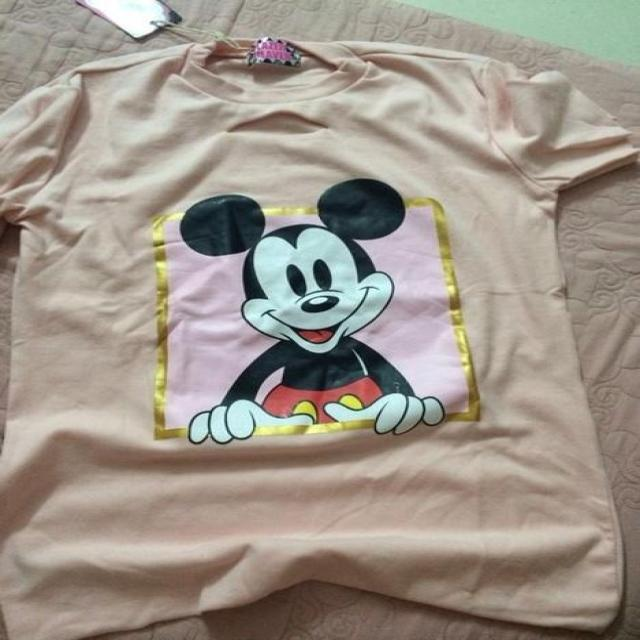short-sleeve-top: (12, 49, 637, 615)
